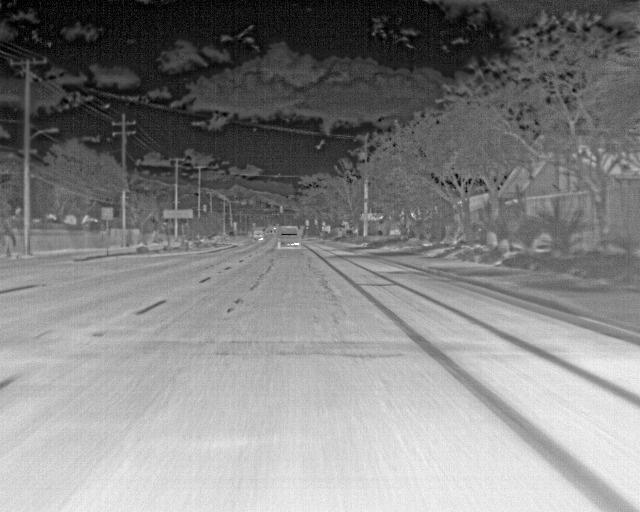car: (276, 225, 303, 250), (253, 227, 265, 240)
